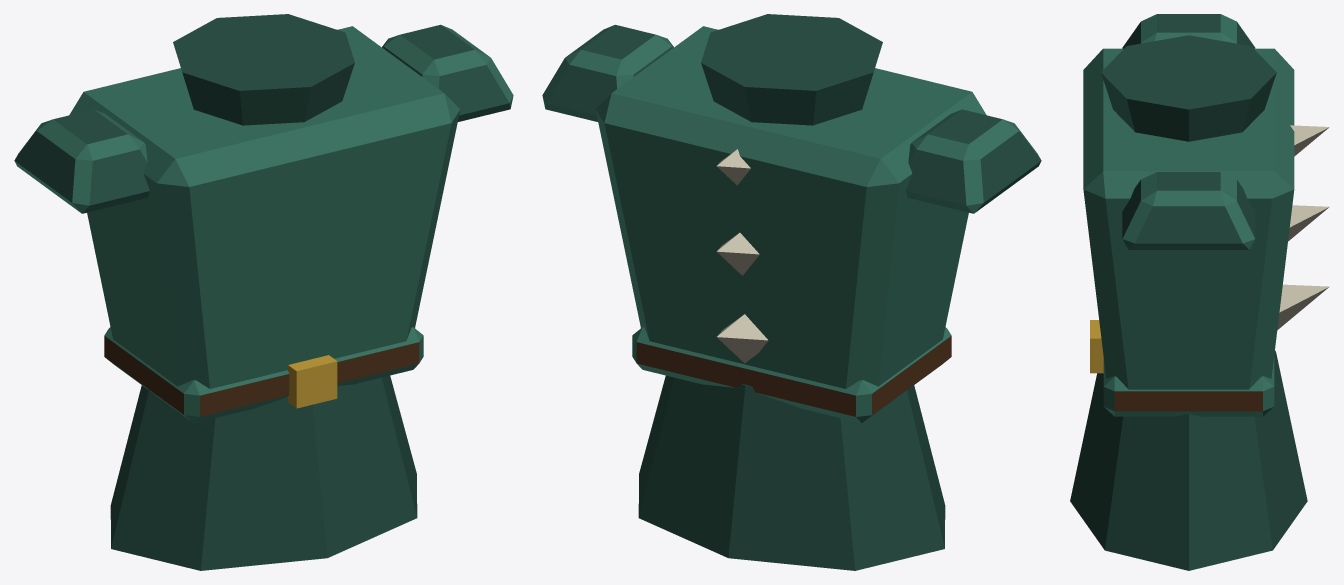
Rendered from wyrmhide_coat.glb.
3 views of the same model, side by side, from view 1: azimuth 30°, elevation 25°; view 2: azimuth 150°, elevation 25°; view 3: azimuth 270°, elevation 25° (orthographic). The views are drawn at different scales.
Visible parts, largest first — view 1: wyrmhide_coat; view 2: wyrmhide_coat; view 3: wyrmhide_coat.
Boxes of the visible parts, box(x1,y1,x2,y2) form: wyrmhide_coat: box(14, 14, 513, 570); wyrmhide_coat: box(542, 14, 1041, 570); wyrmhide_coat: box(1070, 14, 1329, 570).
Size of the model in its own units: 0.8651 by 0.86 by 0.4724.
